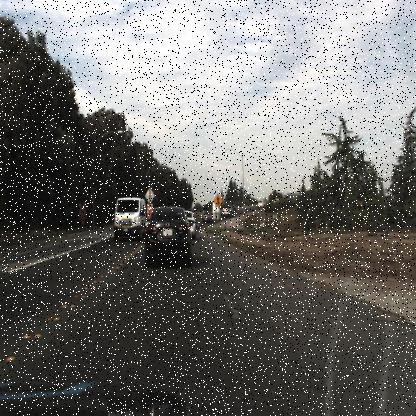car: (141, 205, 191, 268), (113, 195, 148, 242), (221, 202, 237, 223), (200, 208, 215, 229)
